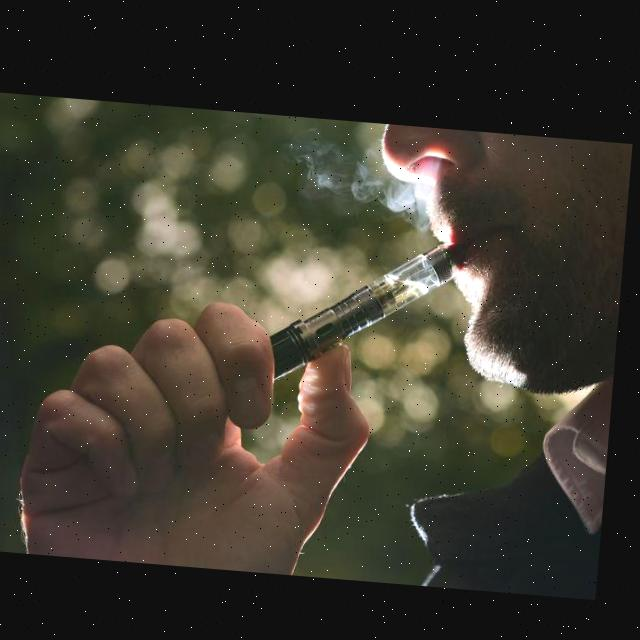vape: (275, 230, 469, 379)
